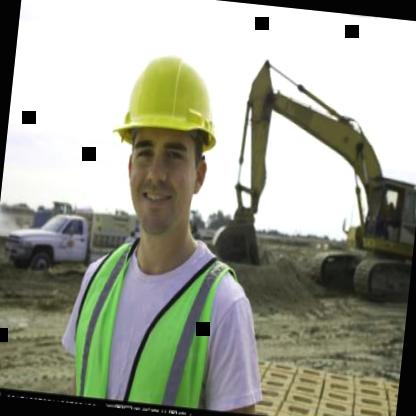helmet: (94, 31, 232, 261)
